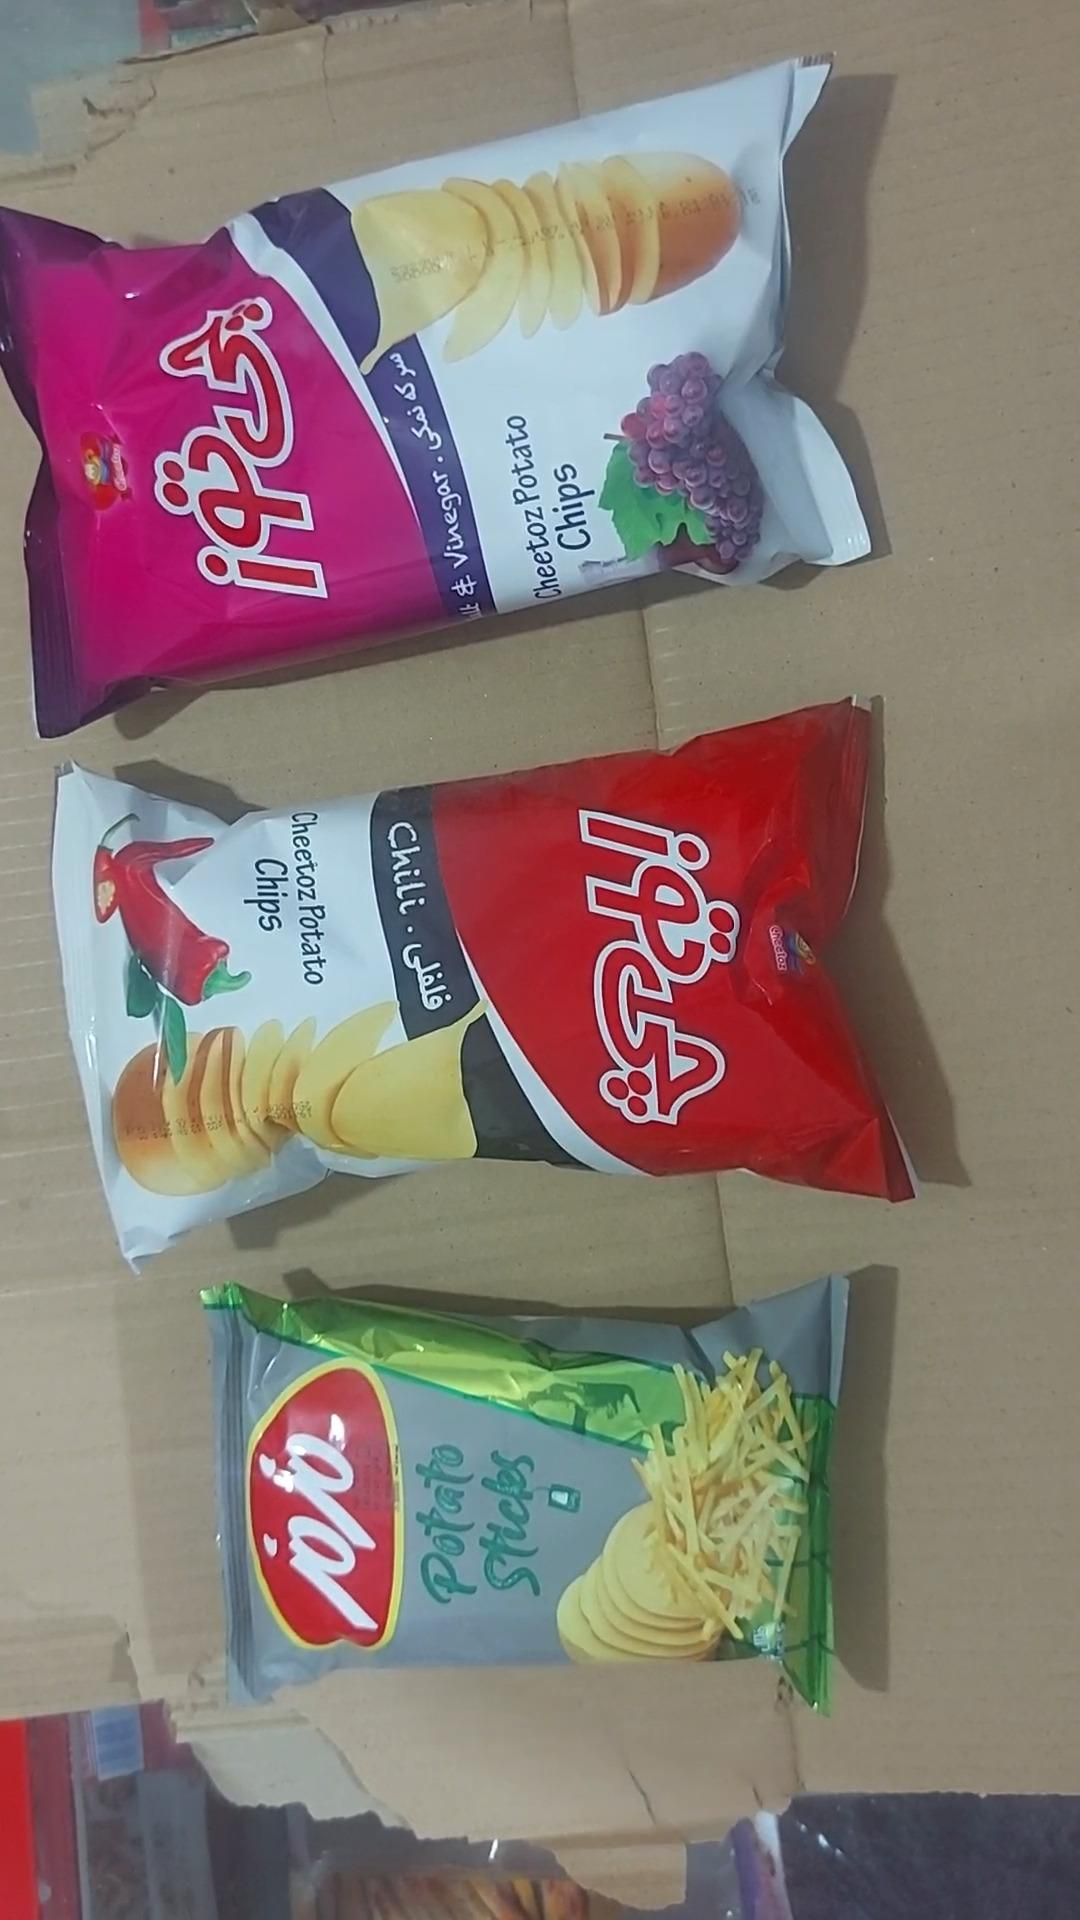Cheetoz chili chips: (51, 702, 916, 1276)
Cheetoz vinegar chips: (0, 55, 881, 741)
Maz Maz potato sticks: (198, 1278, 851, 1710)
